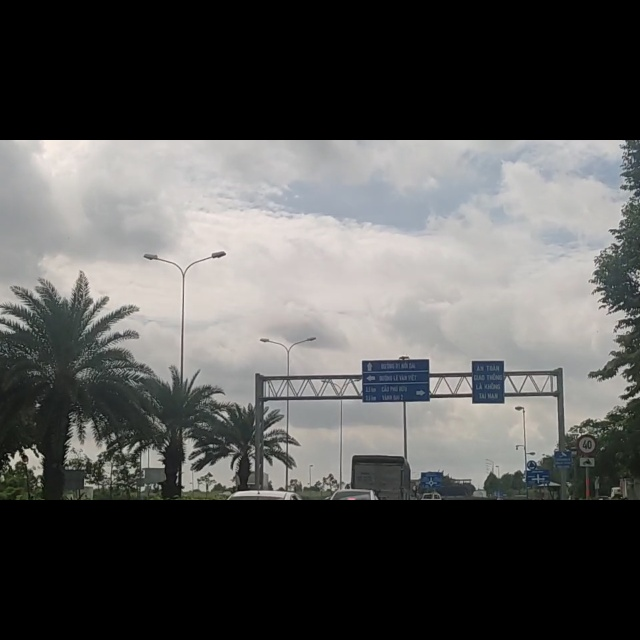bien_chi_dan: (576, 521, 597, 559), (577, 561, 596, 583)
